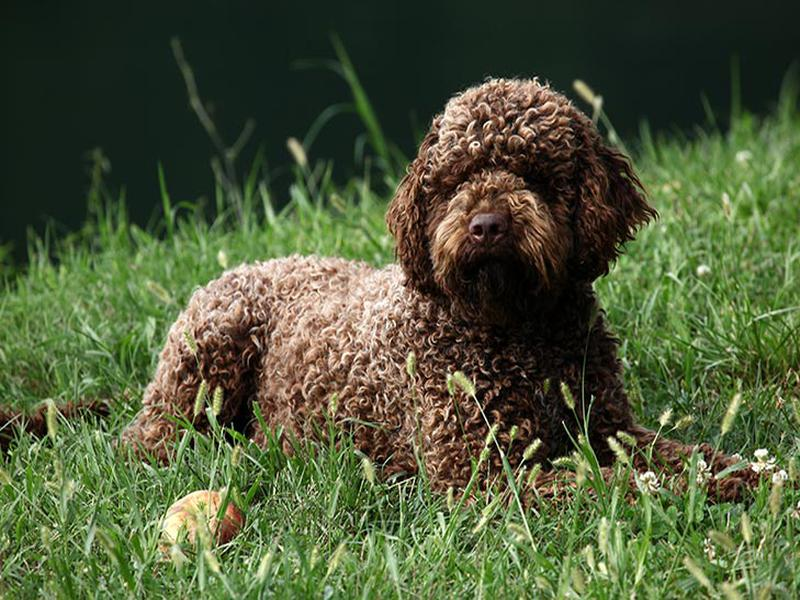dog_down: (126, 72, 766, 513)
